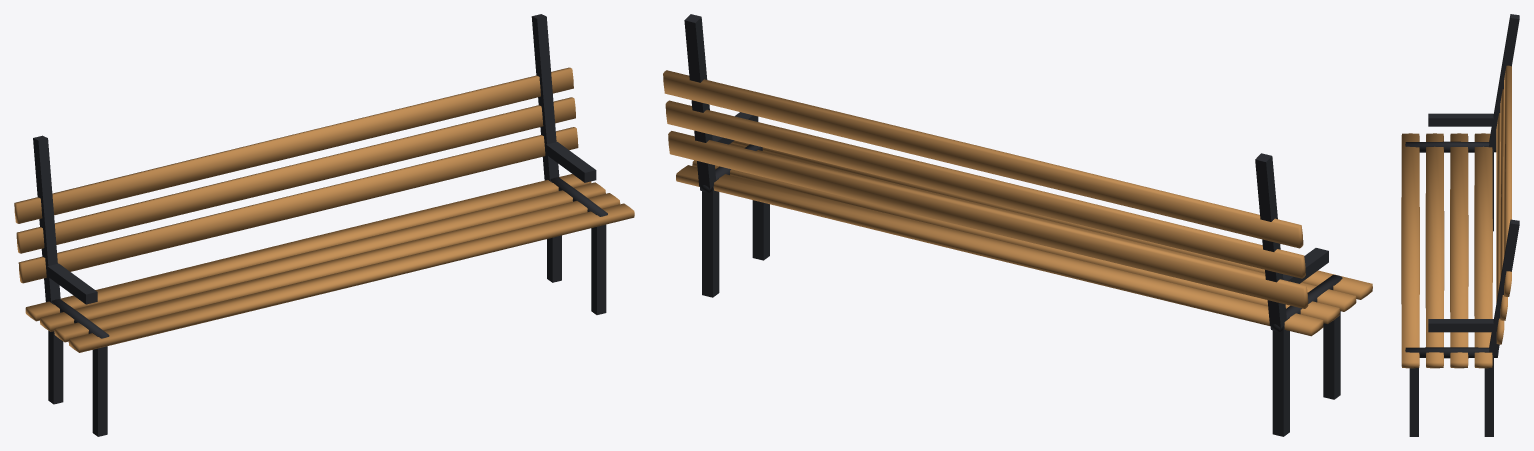
File: bench.glb
3 views of the same model, side by side, from view 1: azimuth 30°, elevation 25°; view 2: azimuth 150°, elevation 25°; view 3: azimuth 270°, elevation 25° (orthographic). The views are drawn at different scales.
Parts seen in each view (by area): view 1: root; view 2: root; view 3: root.
Boxes of the visible parts, box(x1,y1,x2,y2) form: root: box(14, 14, 634, 436); root: box(663, 14, 1372, 436); root: box(1401, 14, 1519, 436).
Size of the model in its own units: 2.9 by 1.26 by 0.633.
